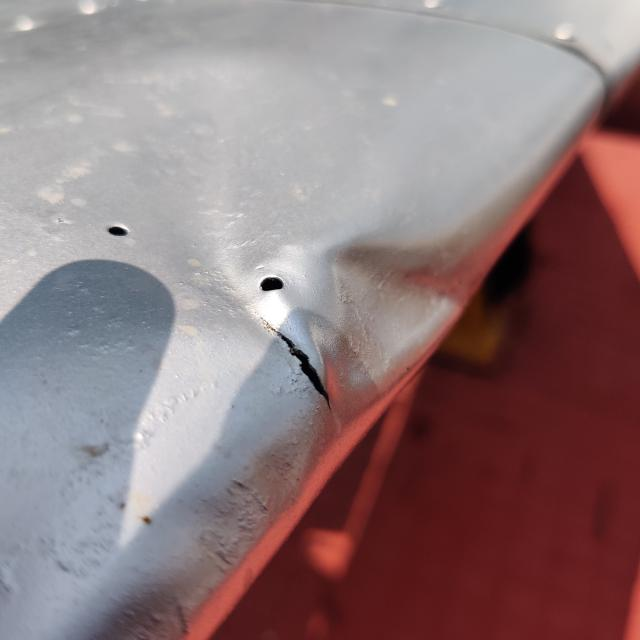crack: (239, 305, 354, 431)
dent: (307, 190, 506, 439)
